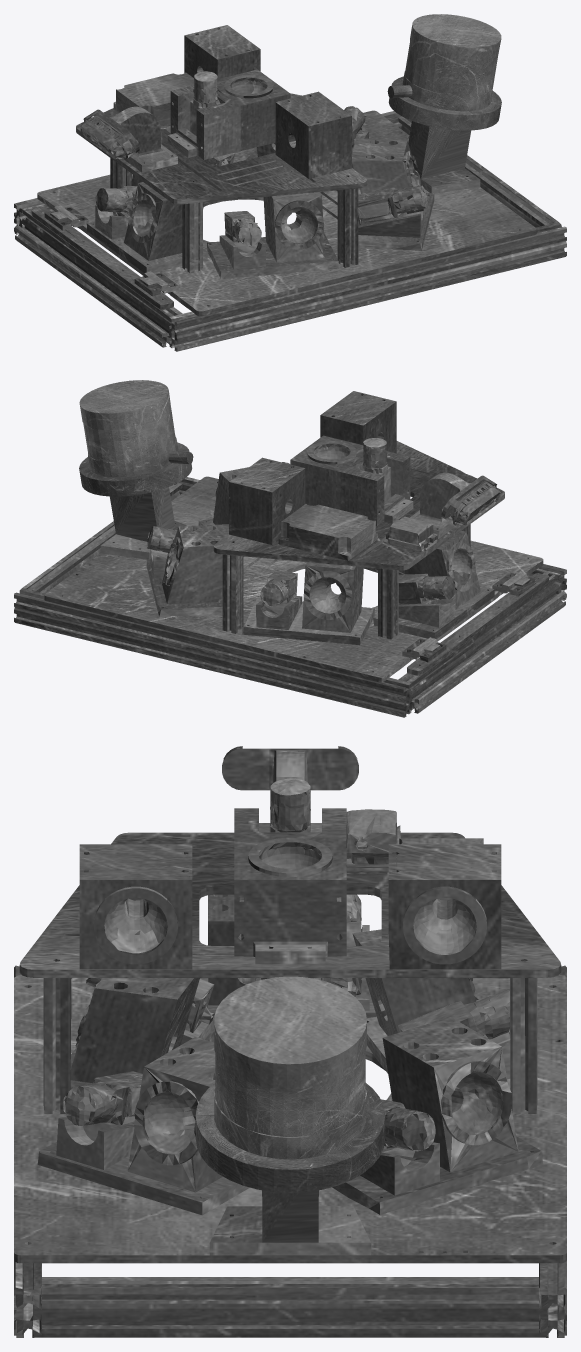
File: sensor_rack_lowres_shallow_laser.dae
3 renders of one model, top to bottom at view 1: azimuth 30°, elevation 25°; view 2: azimuth 150°, elevation 25°; view 3: azimuth 270°, elevation 25°, orthographic. The views are drawn at different scales.
Parts seen in each view (by area): view 1: node; view 2: node; view 3: node.
Boxes of the visible parts, x1,y1,x2,y2 form: node: [14, 14, 566, 351]; node: [14, 380, 566, 717]; node: [14, 746, 566, 1337].
Size of the model in its own units: 0.5666 by 0.3937 by 0.2544.
Materials: 1 (1 with a texture image).
